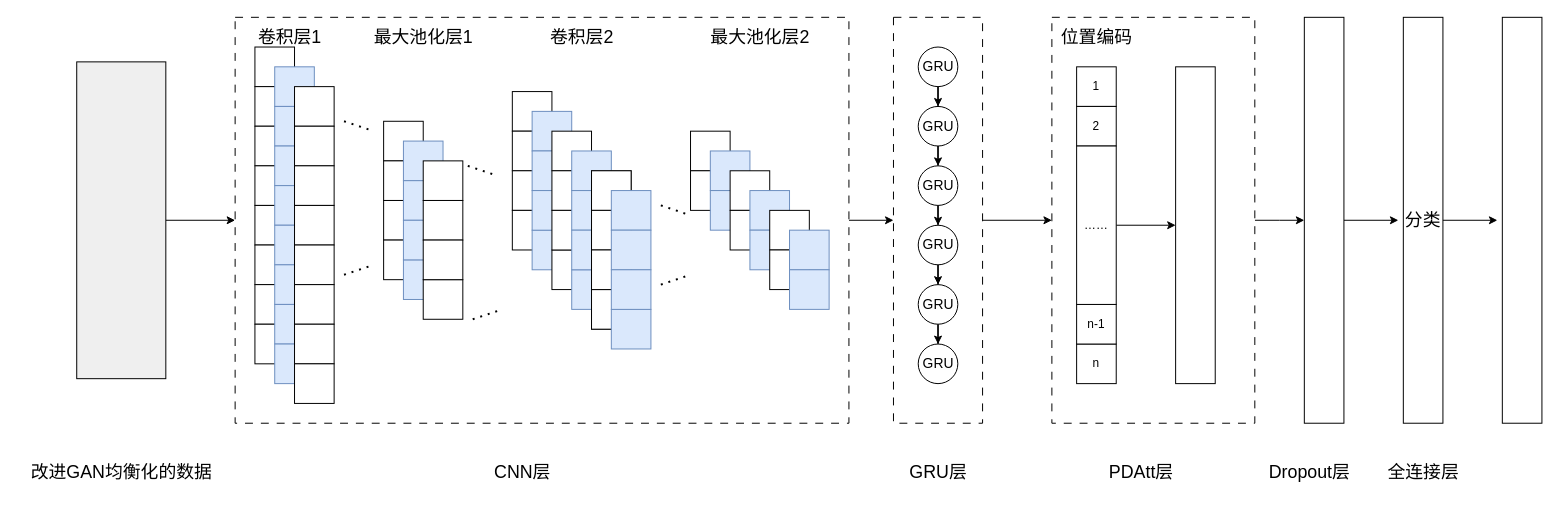
The diagram is 1559 pixels wide and 510 high, and some of its shapes have lost their labels. Here are the shapes that lost their labels. From the top down, the centre of each, then its label:
At pixel 121 220: "样本均衡".
At pixel 1195 225: "动态权重生成".
At pixel 1323 219: "随机丢弃部分神经元".
At pixel 1521 219: "风机叶片结冰诊断结果输出".
